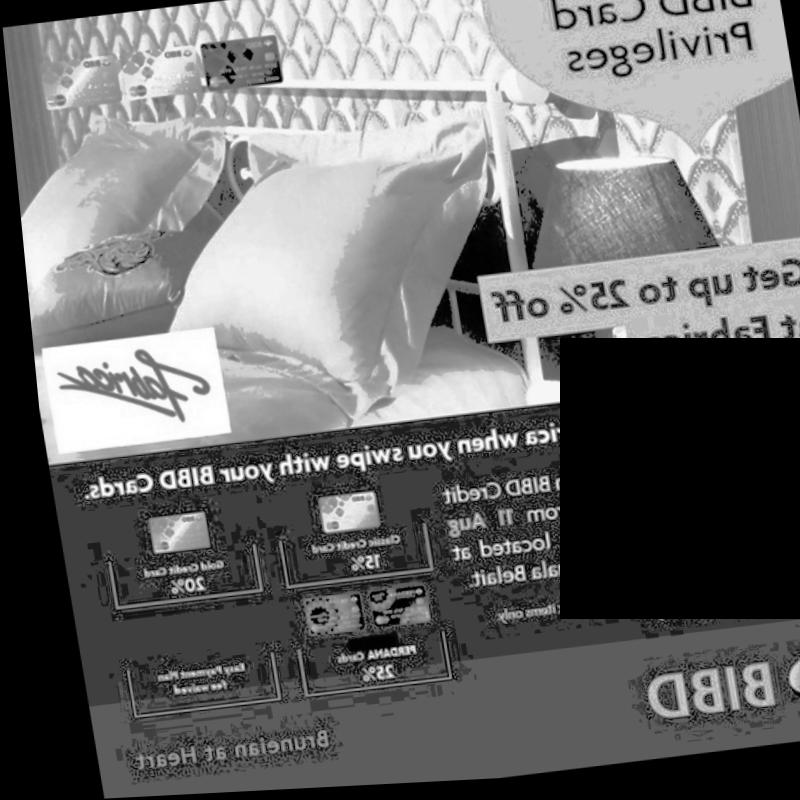pillow: (123, 97, 515, 455), (9, 104, 245, 307), (17, 215, 195, 344)
